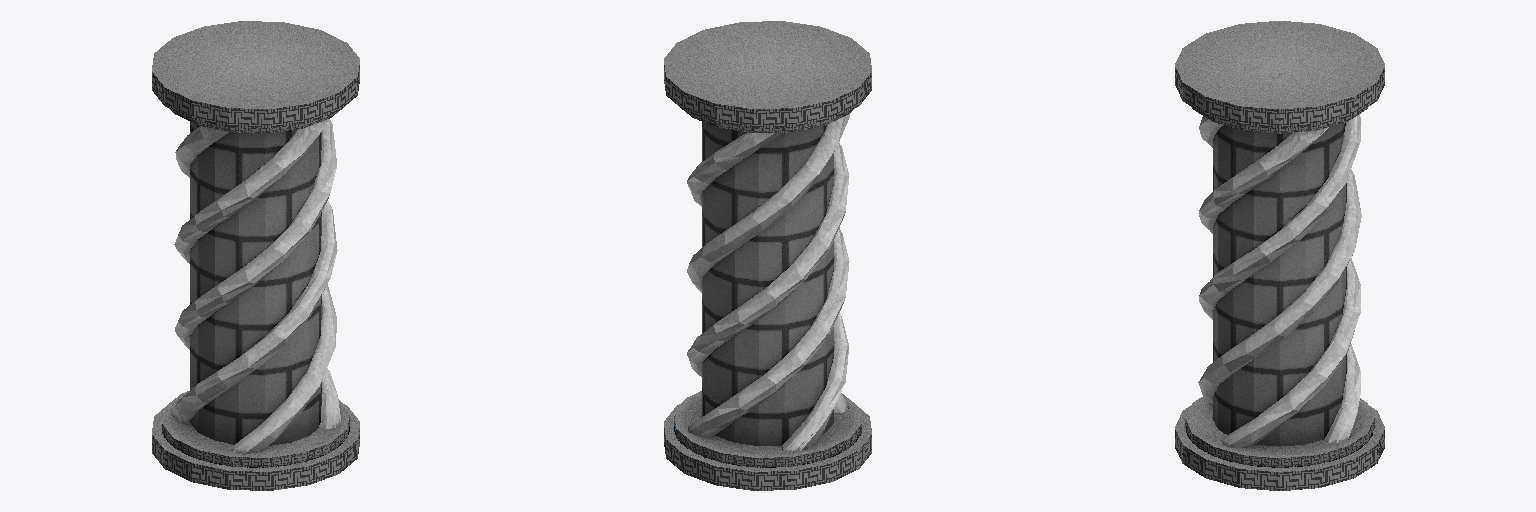
3 renders of one model, left to right at view 1: azimuth 30°, elevation 25°; view 2: azimuth 150°, elevation 25°; view 3: azimuth 270°, elevation 25°, orthographic.
Visible parts, largest first — view 1: collumn-spiral; view 2: collumn-spiral; view 3: collumn-spiral.
Part boxes in pixels (bbox=[...]): collumn-spiral: bbox=[152, 21, 359, 490]; collumn-spiral: bbox=[664, 21, 871, 490]; collumn-spiral: bbox=[1175, 21, 1384, 490].
Size of the model in its own units: 2 by 4 by 2.
1 materials, 1 textured.